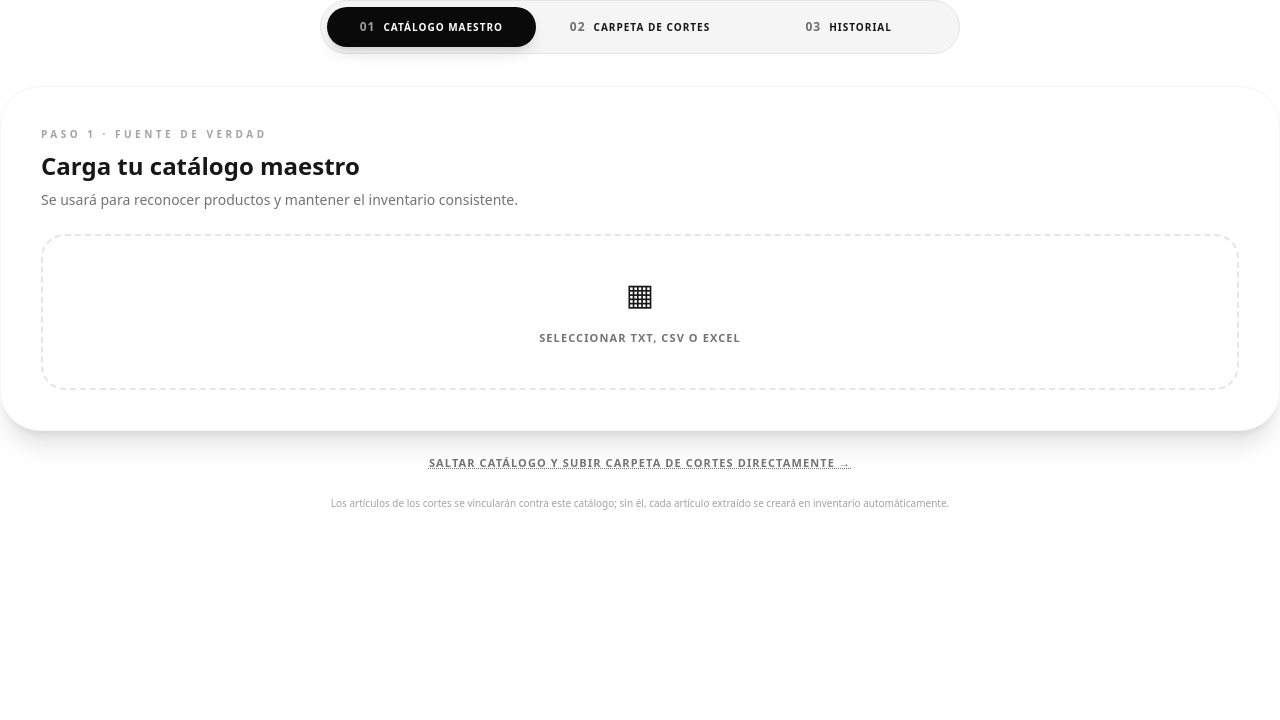
cortes · orquestador › navega al historial y abre el detalle con corte_id
What coordinates should you click on to do the following:
click the button "03 Historial"
I would click on:
 (849, 27)
Its box is x1=744 y1=7 x2=953 y2=47.
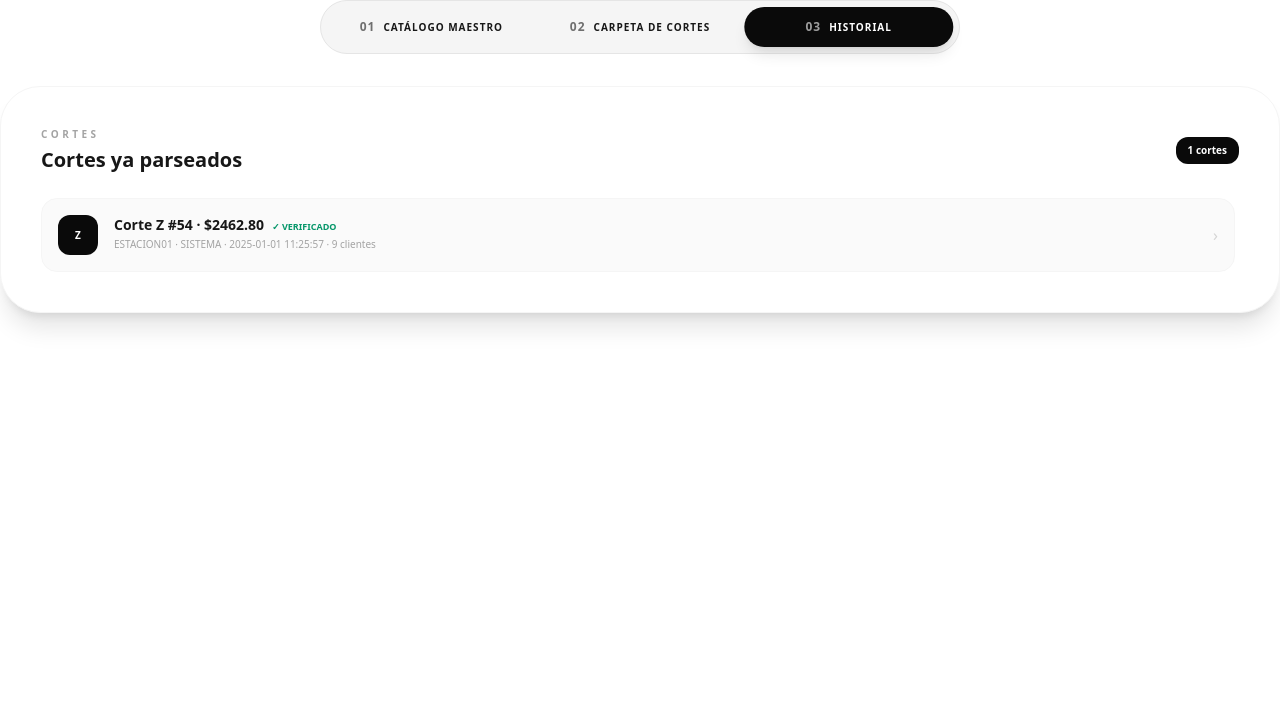
Check: the text "Corte Z #54 · $2462.80✓ verificado" is shown, box x1=114 y1=215 x2=336 y2=234
What coordinates should you click on to do the following:
click the button "Corte Z #54"
I would click on:
 (78, 235)
Its box is x1=41 y1=198 x2=1235 y2=272.
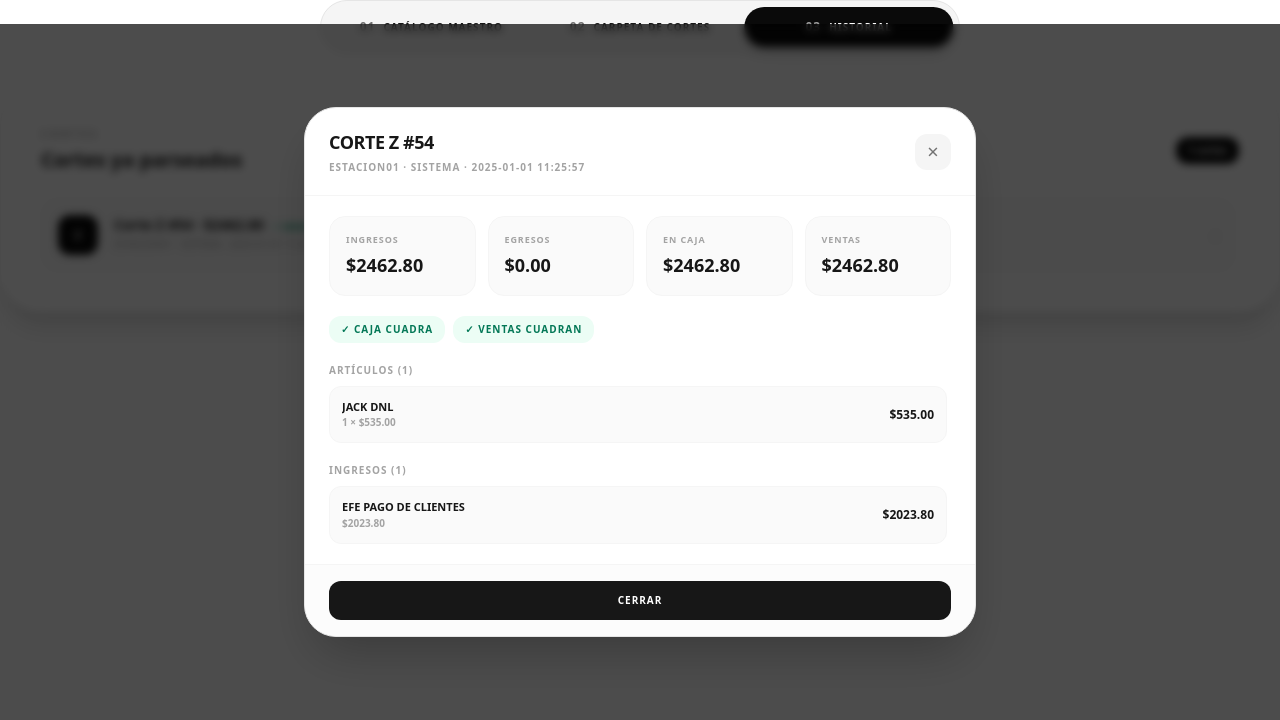
Check: the text "JACK DNL" is shown, box x1=342 y1=399 x2=396 y2=415
Check: the text "✓ caja cuadra" is shown, box x1=329 y1=316 x2=445 y2=343
